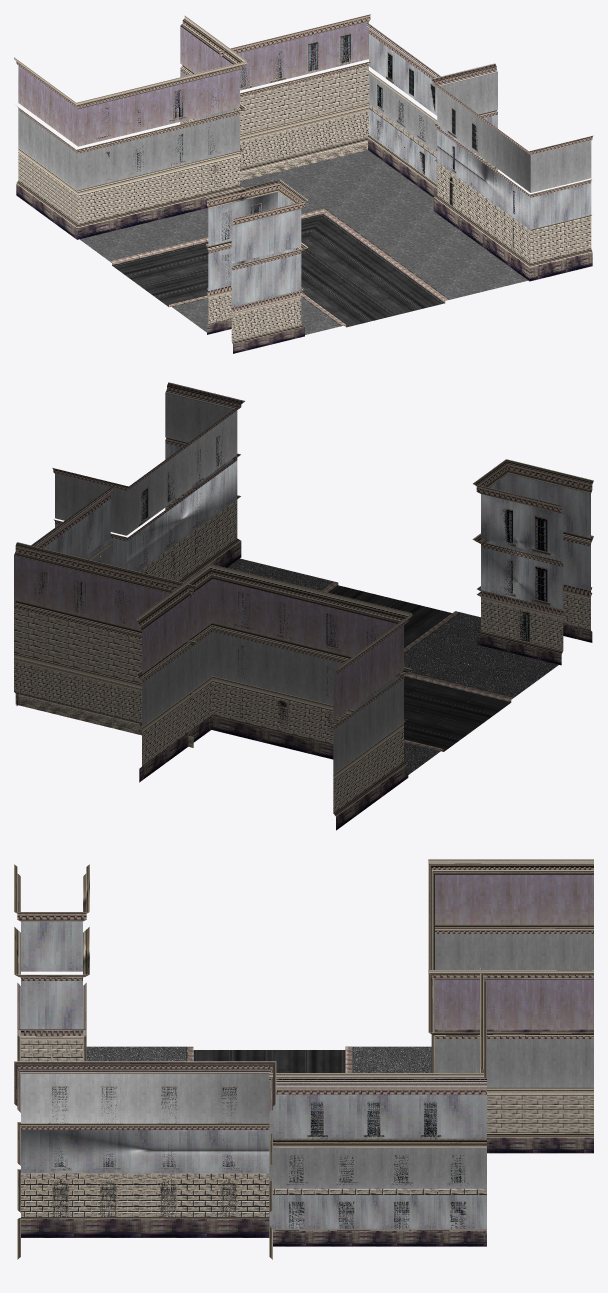
File: Pst_pete_room_6cZ.obj
3 renders of one model, top to bottom at view 1: azimuth 30°, elevation 25°; view 2: azimuth 150°, elevation 25°; view 3: azimuth 270°, elevation 25°, orthographic. The views are drawn at different scales.
Bounding box in the file's own units: 6708 × 2500 × 7000.
Materials: 30 (30 with a texture image).
